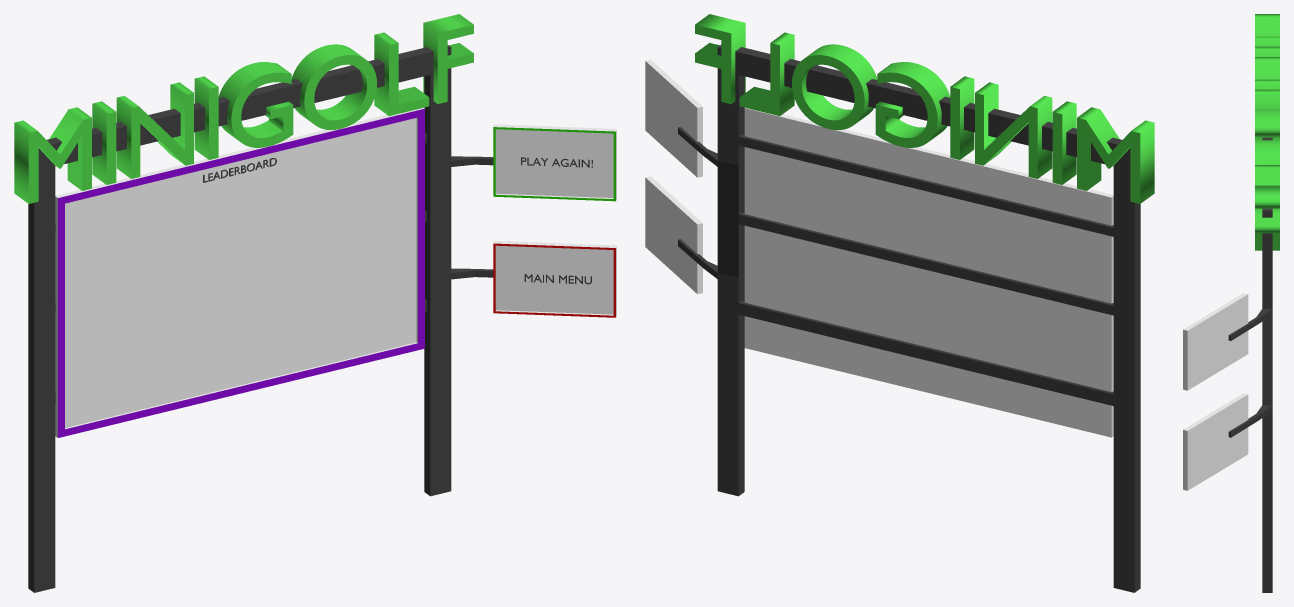
File: menu_leader_board.glb
The picture shows the model from 3 angles, left to right: view 1: azimuth 30°, elevation 25°; view 2: azimuth 150°, elevation 25°; view 3: azimuth 270°, elevation 25°; orthographic projection. The views are drawn at different scales.
Parts seen in each view (by area): view 1: leaderboard_board, sign_body, minigolf, leaderboard_menu_play_again_board, main_menu_board; view 2: leaderboard_board, sign_body, minigolf, leaderboard_menu_play_again_board, main_menu_board; view 3: minigolf, sign_body, leaderboard_menu_play_again_board, main_menu_board.
Part boxes in pixels (box(x1,y1,x2,y2)): leaderboard_board: box(55, 107, 424, 437); sign_body: box(28, 45, 493, 592); minigolf: box(14, 14, 473, 203); leaderboard_menu_play_again_board: box(493, 124, 616, 201); main_menu_board: box(493, 241, 616, 317); leaderboard_board: box(744, 107, 1113, 437); sign_body: box(678, 45, 1140, 592); minigolf: box(695, 14, 1154, 203); leaderboard_menu_play_again_board: box(645, 59, 702, 177); main_menu_board: box(645, 176, 702, 293); minigolf: box(1255, 14, 1279, 250); sign_body: box(1228, 137, 1272, 592); leaderboard_menu_play_again_board: box(1183, 293, 1248, 390); main_menu_board: box(1183, 393, 1248, 490).
Size of the model in its own units: 50.71 by 41.17 by 9.02.
